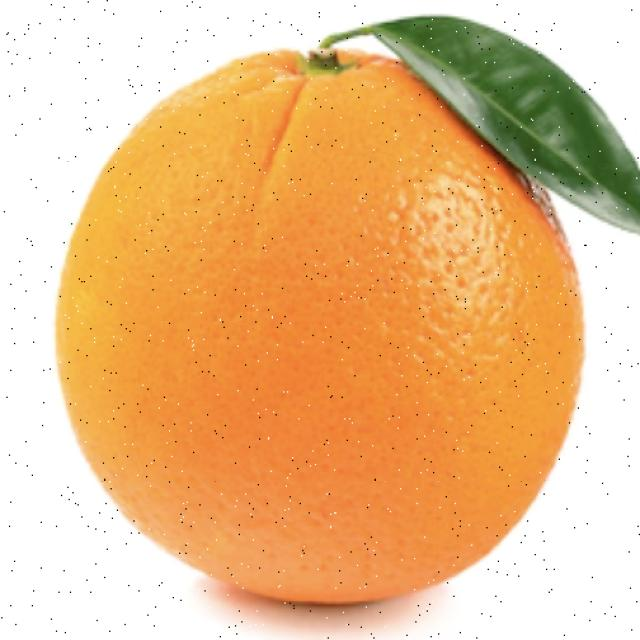orange: (66, 38, 589, 608)
